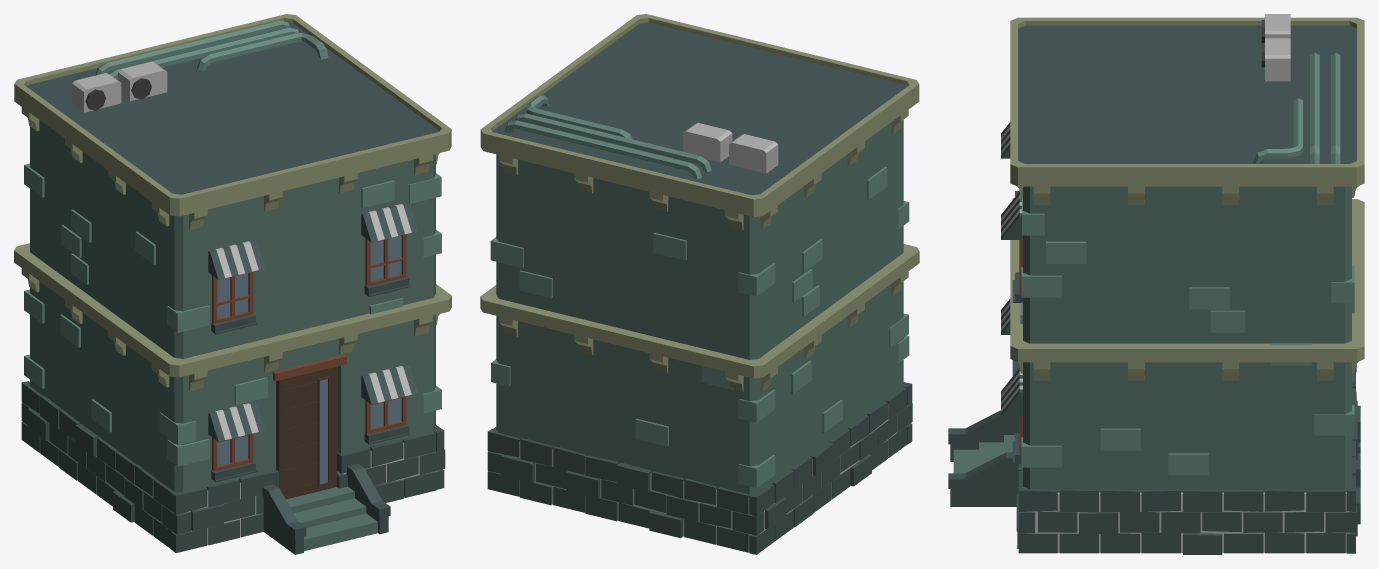
The model's file is 2Story_Mat.gltf.
3 views of the same model, side by side, from view 1: azimuth 30°, elevation 25°; view 2: azimuth 150°, elevation 25°; view 3: azimuth 270°, elevation 25° (orthographic). The views are drawn at different scales.
Visible parts, largest first — view 1: o 2Story_Mat_Cube.038; view 2: o 2Story_Mat_Cube.038; view 3: o 2Story_Mat_Cube.038.
Part boxes in pixels (left/top/right/bottom): o 2Story_Mat_Cube.038: left=14, top=14, right=451, bottom=554; o 2Story_Mat_Cube.038: left=480, top=14, right=919, bottom=554; o 2Story_Mat_Cube.038: left=948, top=14, right=1364, bottom=554.
Bounding box in the file's own units: 2.16 × 2.75 × 2.53.
